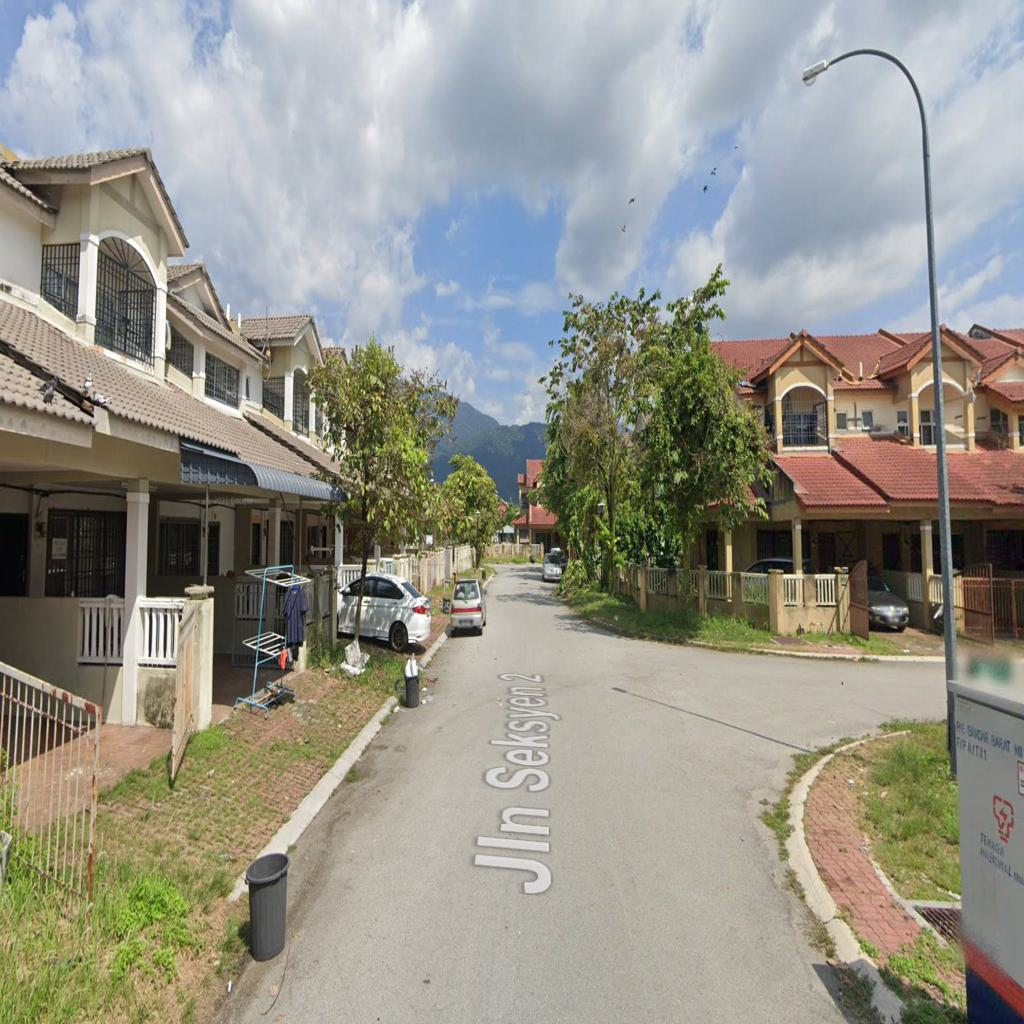Junction: (662, 613, 940, 832)
